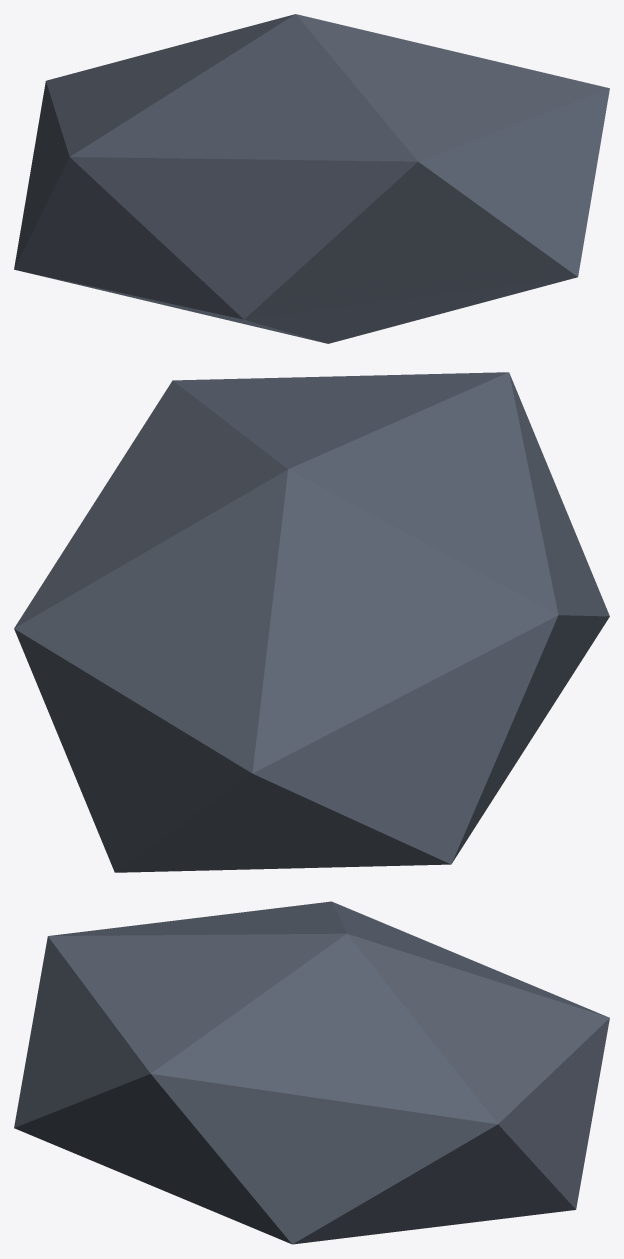
File: EXT_SouthCliff_08_Shard_1.glb
3 views of the same model, one above another, from view 1: azimuth 30°, elevation 25°; view 2: azimuth 150°, elevation 25°; view 3: azimuth 270°, elevation 25° (orthographic). The views are drawn at different scales.
Parts seen in each view (by area): view 1: EXT_SouthCliff_08_Shard_1; view 2: EXT_SouthCliff_08_Shard_1; view 3: EXT_SouthCliff_08_Shard_1.
Boxes of the visible parts, x1,y1,x2,y2 form: EXT_SouthCliff_08_Shard_1: (14, 14, 609, 343); EXT_SouthCliff_08_Shard_1: (14, 372, 609, 872); EXT_SouthCliff_08_Shard_1: (14, 901, 609, 1244).
Bounding box in the file's own units: 1.32 × 0.8191 × 1.58.
